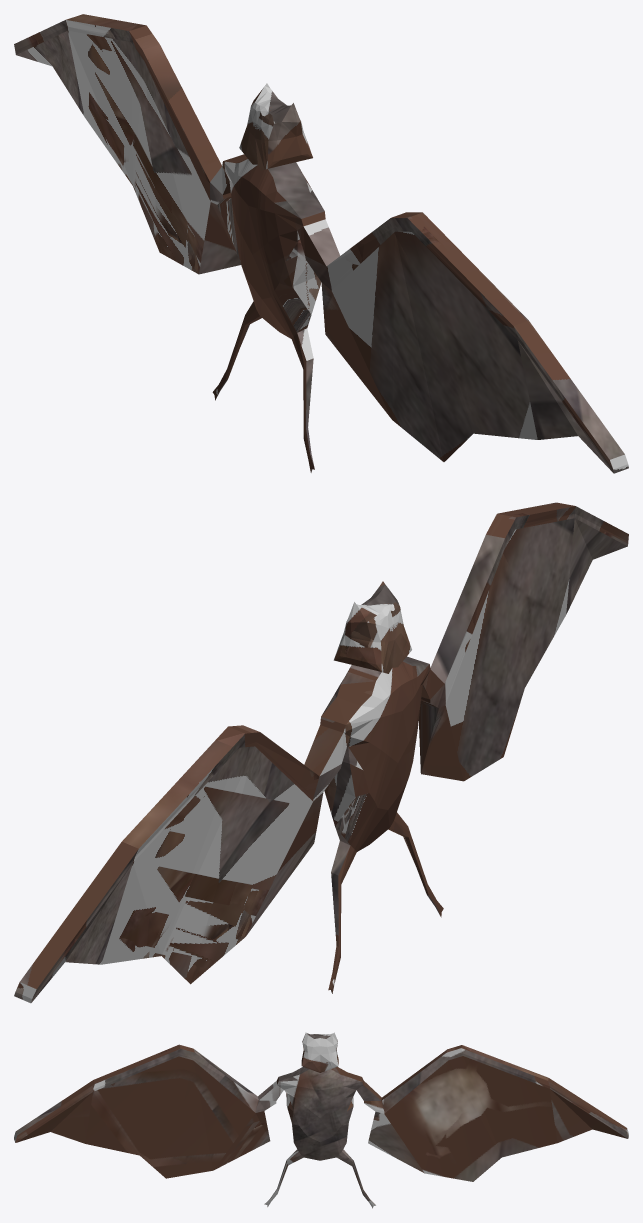
Rendered from Enemigo128.obj.
3 renders of one model, top to bottom at view 1: azimuth 30°, elevation 25°; view 2: azimuth 150°, elevation 25°; view 3: azimuth 270°, elevation 25°, orthographic. The views are drawn at different scales.
Visible parts, largest first — view 1: Plano; view 2: Plano; view 3: Plano.
Part boxes in pixels (box(x1,y1,x2,y2)): Plano: box(14, 14, 628, 473); Plano: box(14, 502, 628, 1003); Plano: box(14, 1032, 628, 1208).
Size of the model in its own units: 0.2157 by 0.7556 by 2.33.
1 material, 1 textured.
